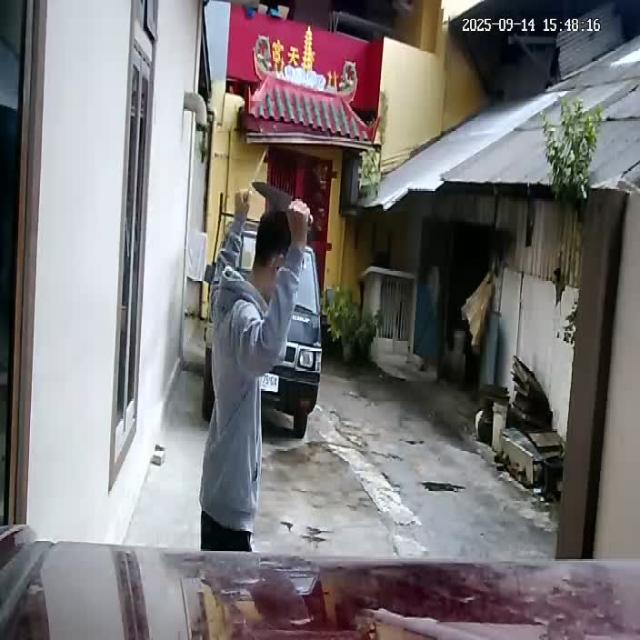senjata_tajam: (247, 180, 294, 213)
